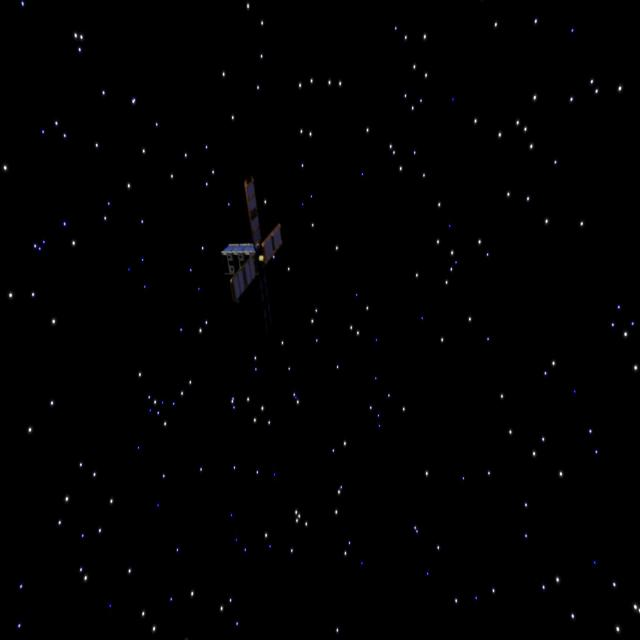satellite: (218, 176, 290, 304)
